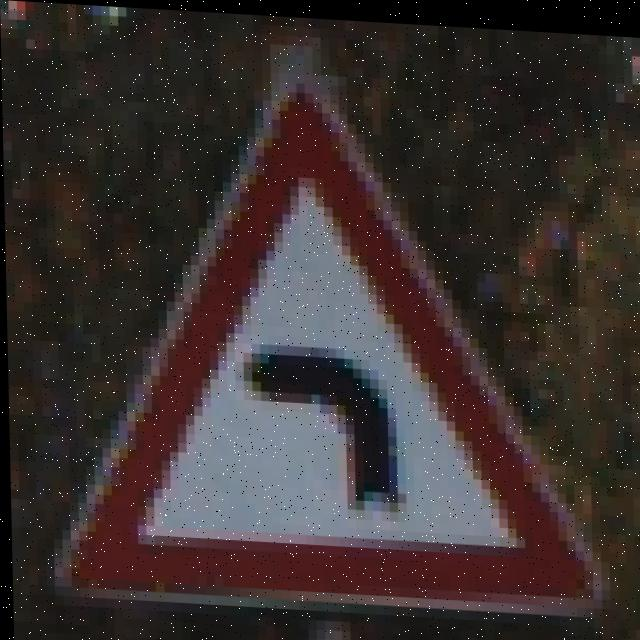left_turn: (94, 128, 615, 640)
